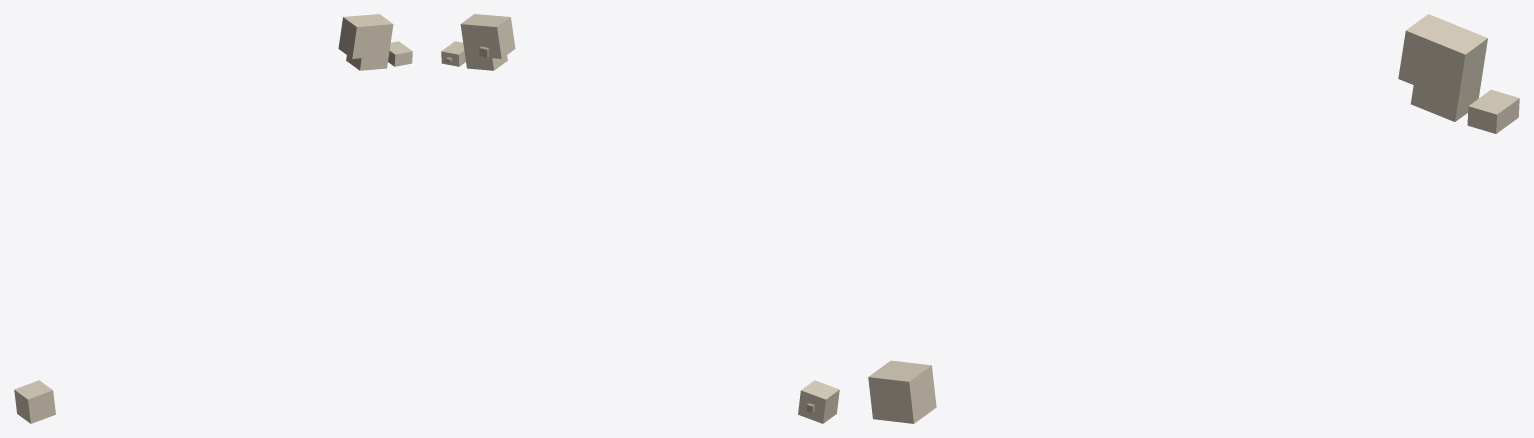
File: historic-palestine-14_26_3555_3202.glb
3 renders of one model, left to right at view 1: azimuth 30°, elevation 25°; view 2: azimuth 150°, elevation 25°; view 3: azimuth 330°, elevation 25°, orthographic. The views are drawn at different scales.
Parts seen in each view (by area): view 1: Building_.001, Building_, Building_.002; view 2: Building_.001, Building_, Building_.002; view 3: Building_.001, Building_, Building_.002.
Part boxes in pixels (<box>): Building_.001: <box>338,14,393,70</box>; Building_: <box>14,380,55,423</box>; Building_.002: <box>388,41,412,66</box>; Building_.001: <box>460,14,515,70</box>; Building_: <box>798,380,839,423</box>; Building_.002: <box>441,41,465,66</box>; Building_.001: <box>1398,14,1487,121</box>; Building_: <box>868,360,936,423</box>; Building_.002: <box>1467,89,1519,133</box>.
Size of the model in its own units: 120 by 94.81 by 8.7.
